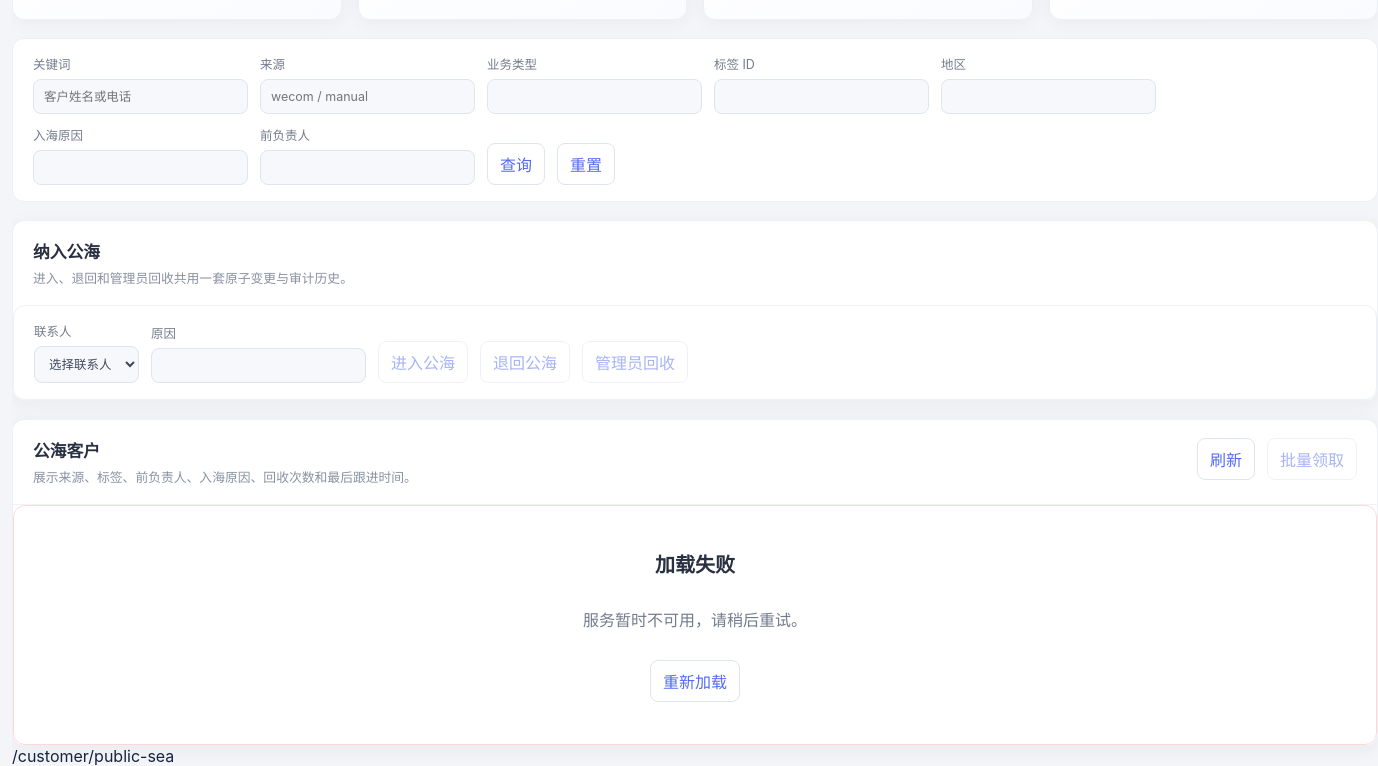
it: PublicPoolPage › uses PageState for loading, empty, forbidden, retry and conflict
This screenshot has width=1378, height=766.
Later steps or results of the test are not shown.
(page scrolled)
Expected: the message "加载失败 服务暂时不可用，请稍后重试。 重新加载" is shown, [13,505,1377,745]
Click the button "重新加载" at [695, 680], box [650,660,740,702]
(page scrolled)
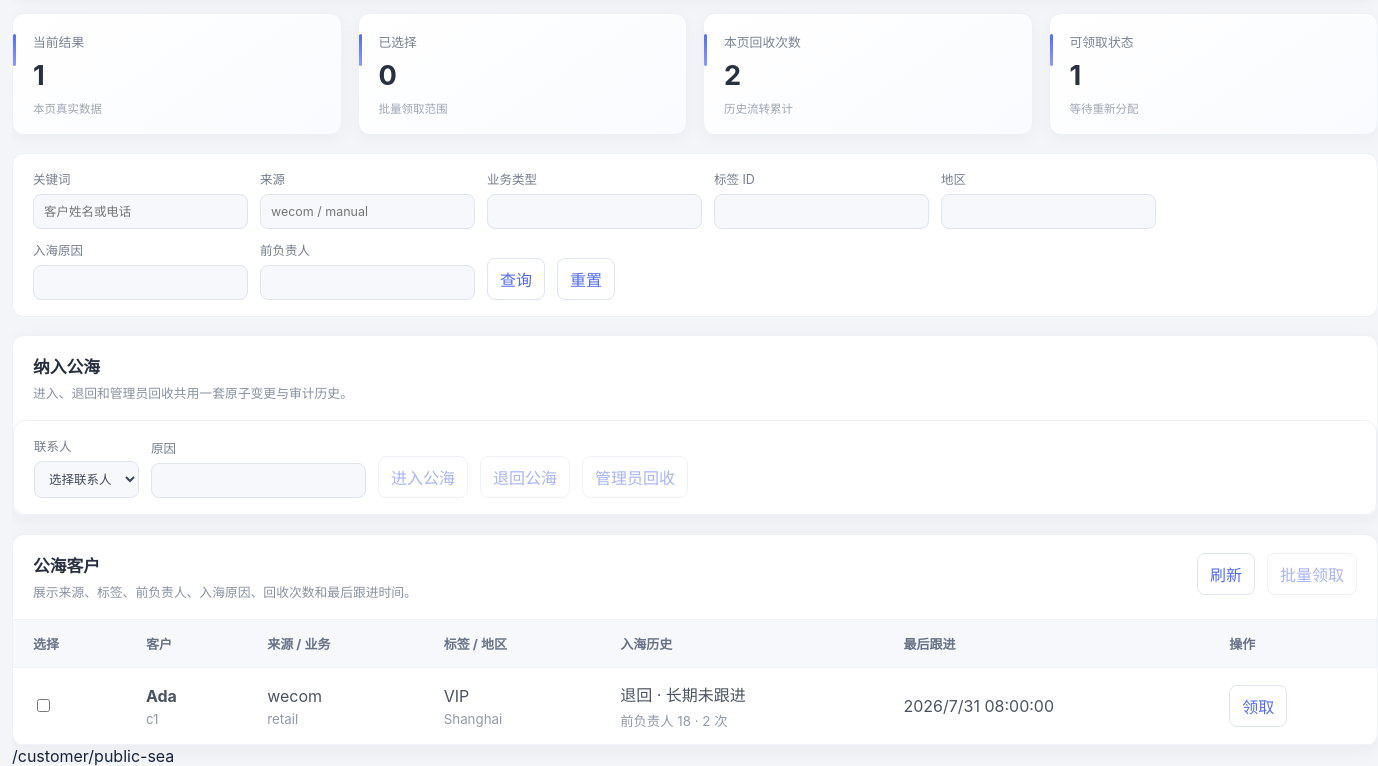
Expected: the text "Ada" is shown, [146,686,177,706]
